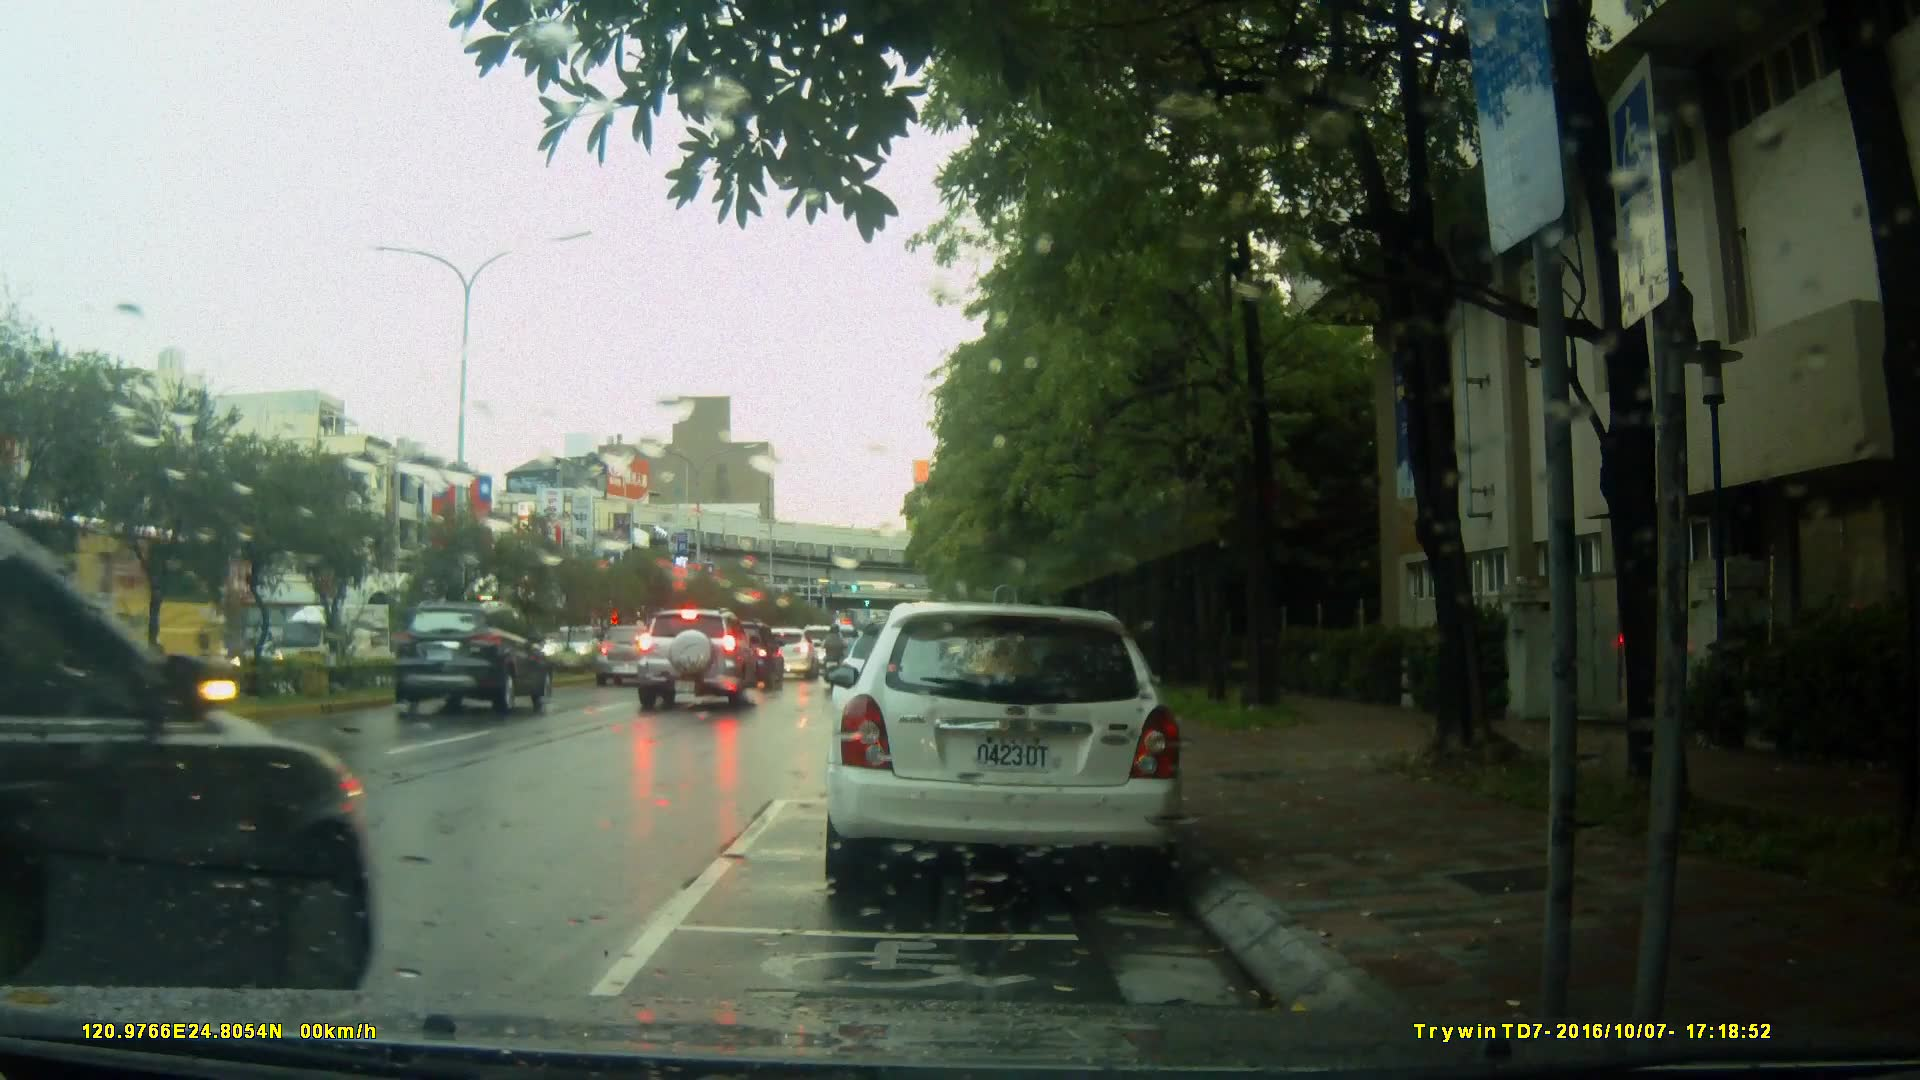rider: (818, 623, 853, 698)
vehicle: (1, 501, 375, 988), (820, 602, 1188, 898), (2, 528, 228, 686), (391, 598, 556, 715), (633, 607, 757, 715)
